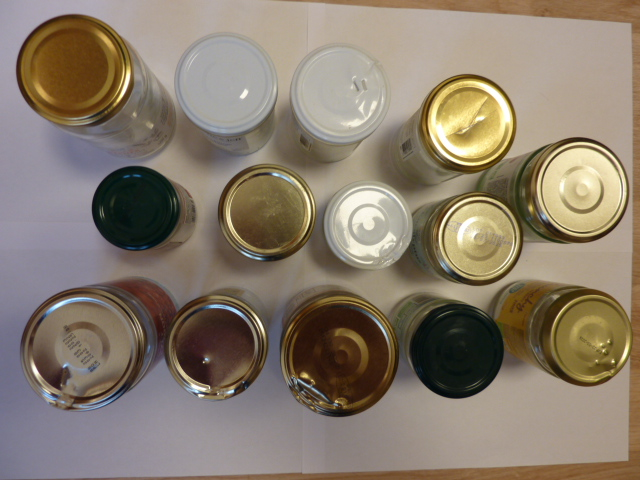damaged: (421, 72, 517, 169)
intact: (176, 34, 275, 133), (90, 164, 183, 251)
